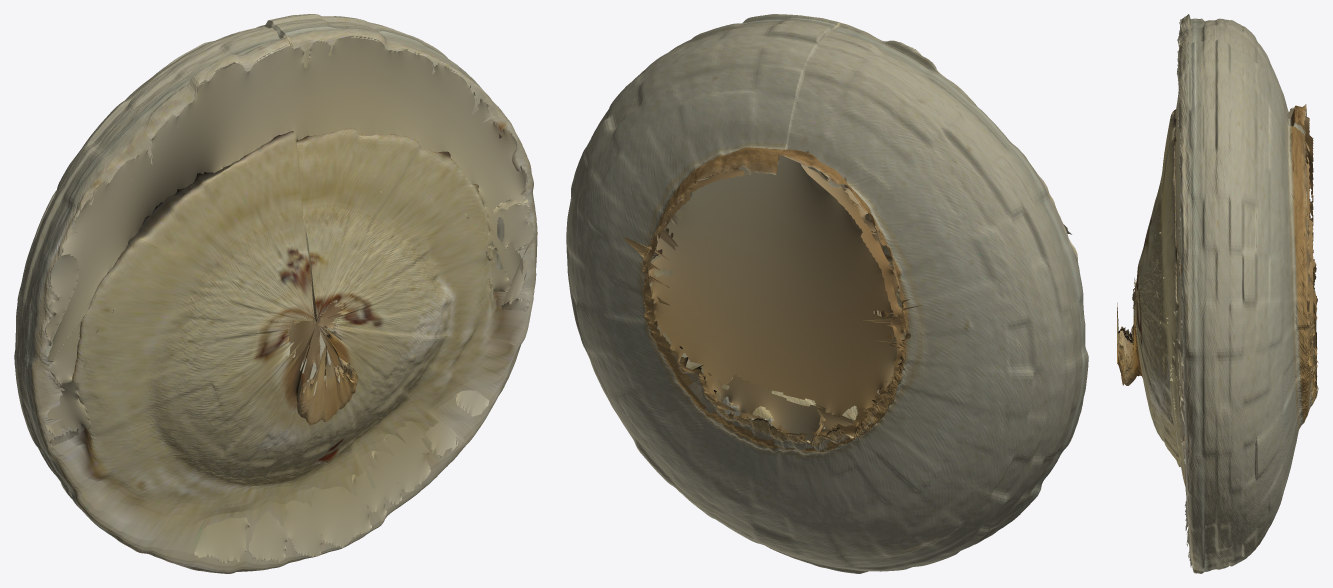
The model's file is guess_mesh.glb.
3 renders of one model, left to right at view 1: azimuth 30°, elevation 25°; view 2: azimuth 150°, elevation 25°; view 3: azimuth 270°, elevation 25°, orthographic. The views are drawn at different scales.
Parts seen in each view (by area): view 1: ipn, fill; view 2: ipn, fill; view 3: ipn, fill.
Part boxes in pixels (x1=…): ipn: x1=14, y1=14, x2=537, y2=573; fill: x1=44, y1=35, x2=534, y2=563; ipn: x1=566, y1=14, x2=1088, y2=573; fill: x1=642, y1=47, x2=1071, y2=441; ipn: x1=1117, y1=14, x2=1316, y2=573; fill: x1=1118, y1=19, x2=1318, y2=567.
Bounding box in the file's own units: 1.98 × 1.99 × 0.717.
2 materials, 1 textured.
